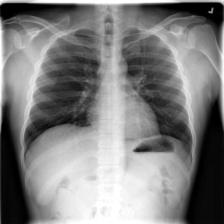normal: (18, 22, 197, 166)
